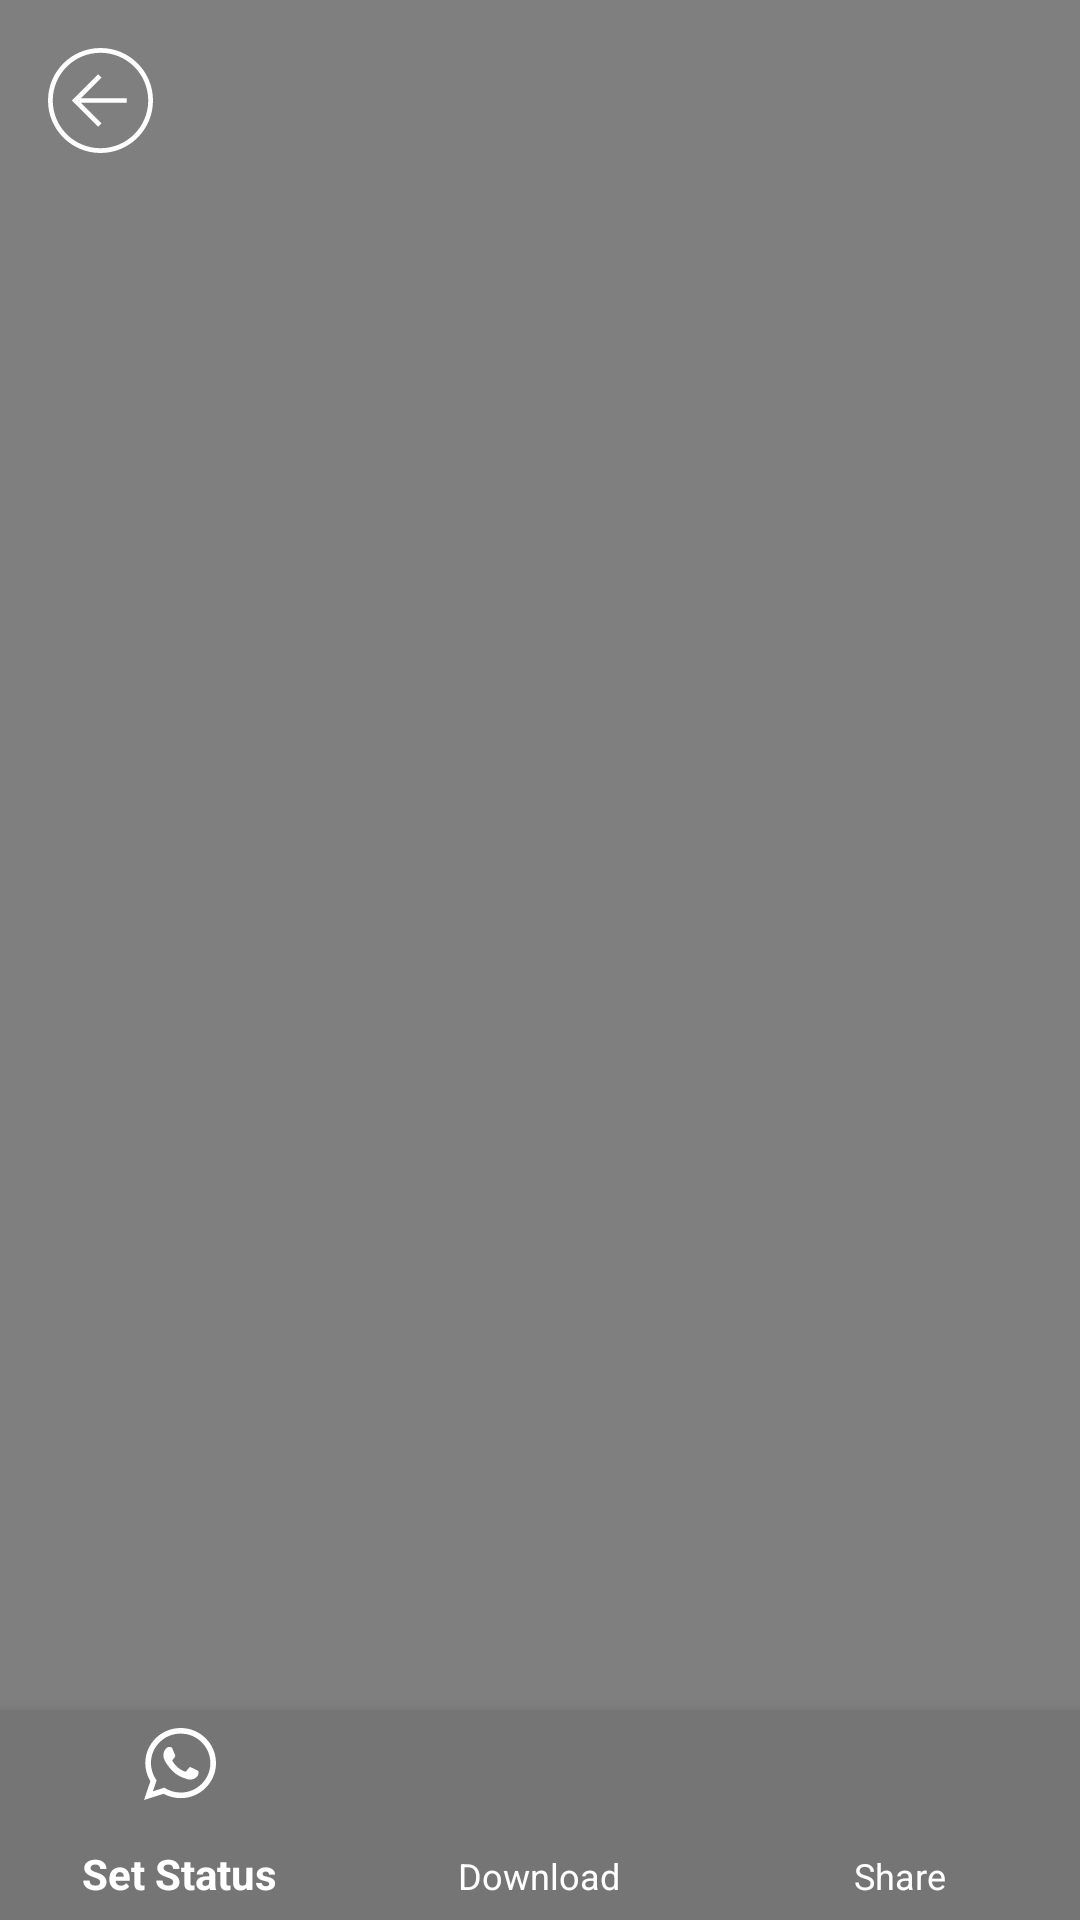

Screen size 1080×1920. Icon name, then its center in pixels as (x,y):
back circular left arrow: (100,100)
